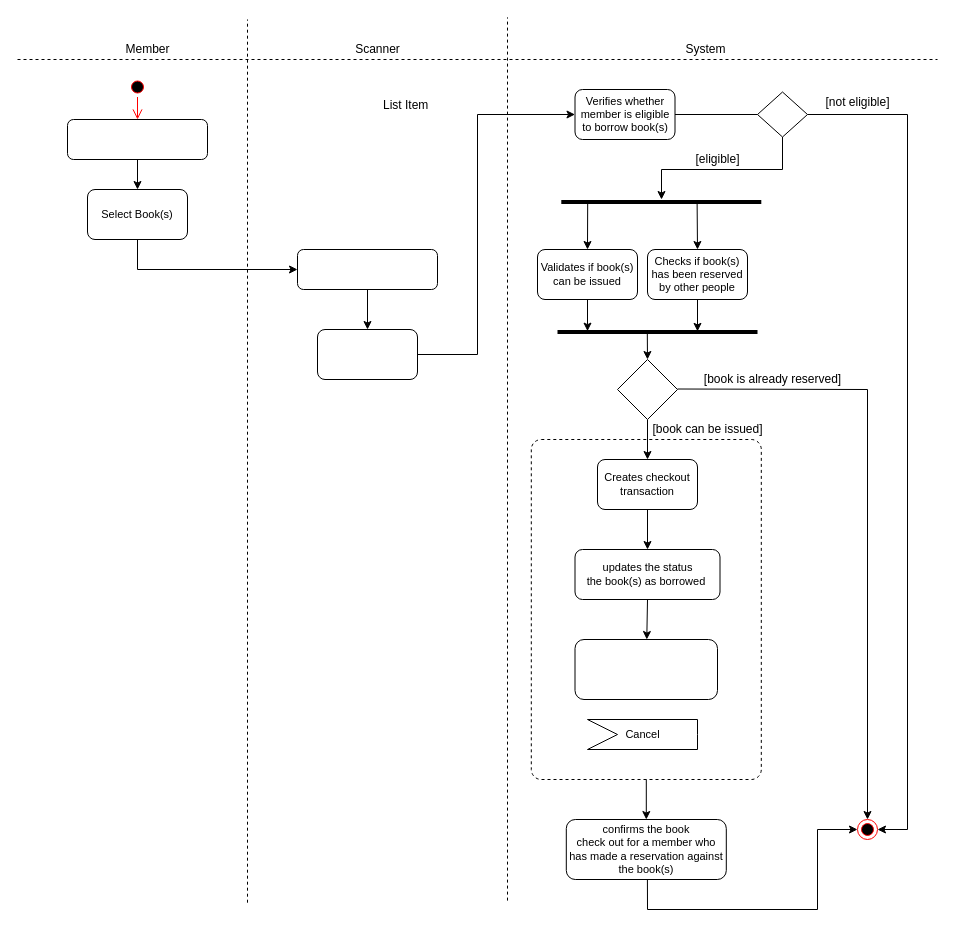
Image size: 956x936. Some labels were removed from this diagram. The centre of each missing label's shape, as x and y in pixels:
"Browses catalogue" goes at pixel 137 139.
"Scans Library Card Barcode" goes at pixel 367 269.
"Scans the barcode of book(s)" goes at pixel 367 354.
"updates the status of book(s) issued to the member" goes at pixel 646 669.
